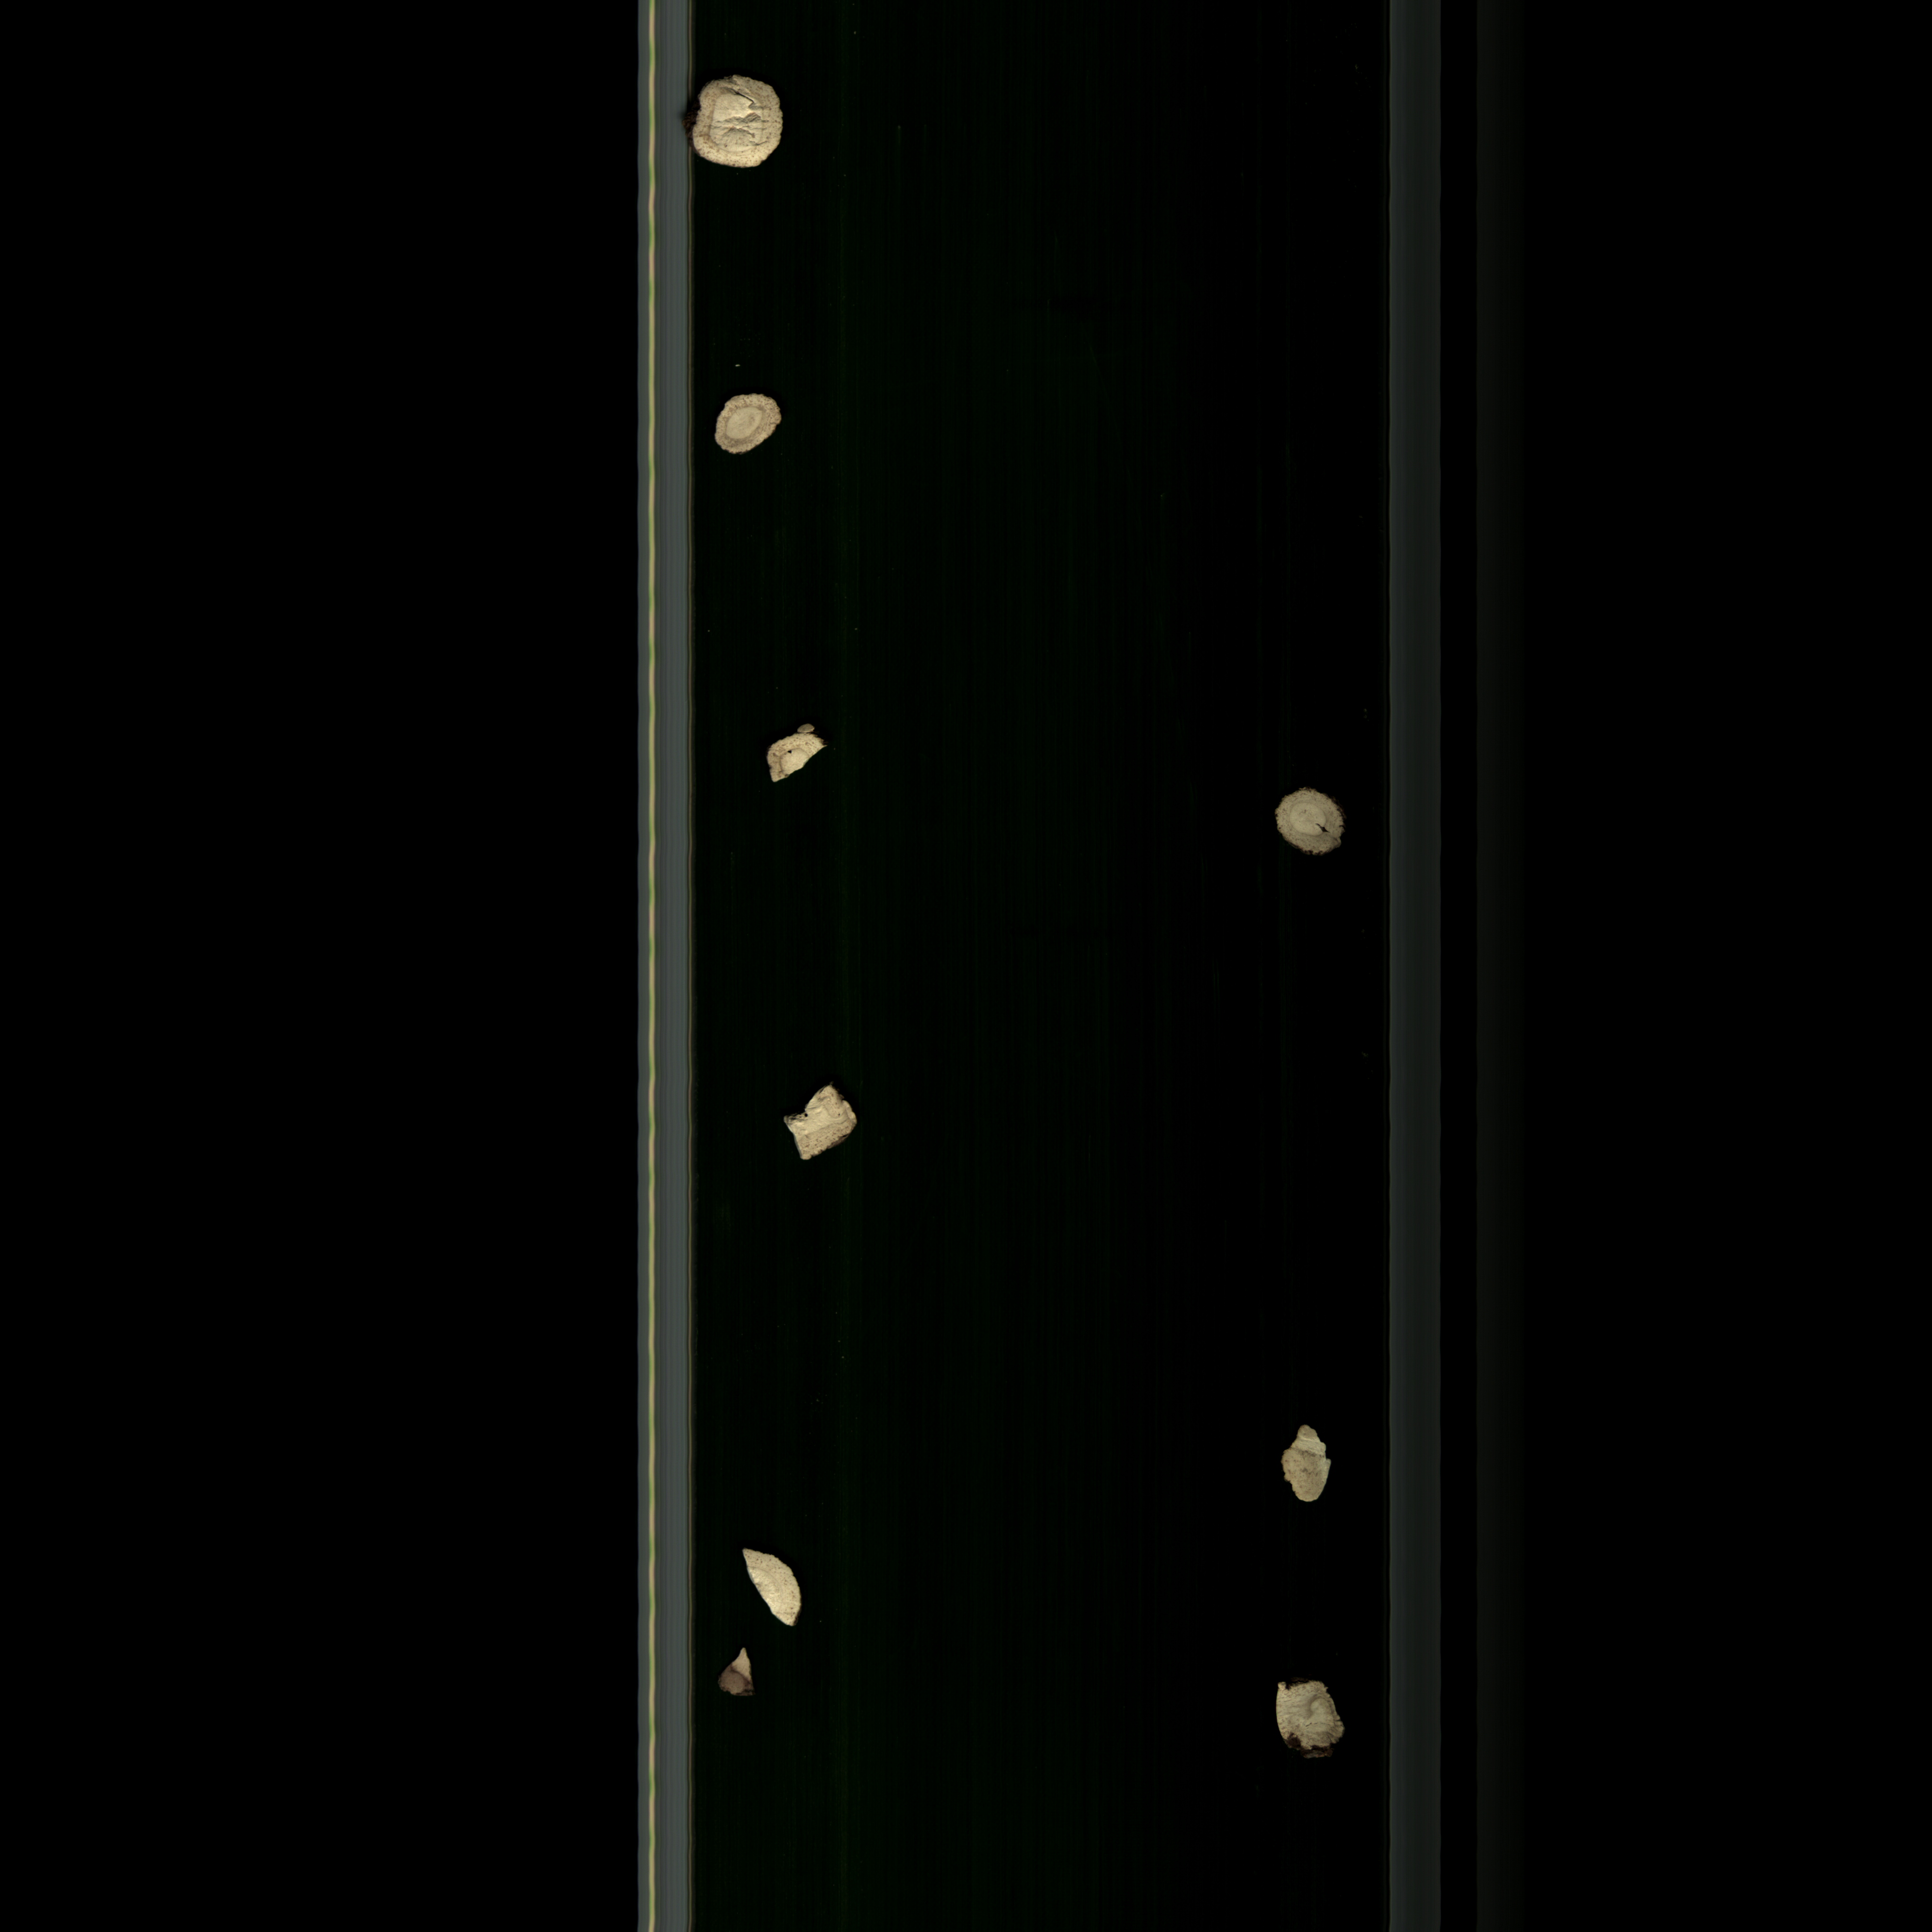debris: (729, 1539, 823, 1635), (1269, 1672, 1361, 1769), (773, 1083, 865, 1162), (755, 718, 844, 794)
dreg: (1274, 1415, 1345, 1527)
hole: (1265, 784, 1353, 872)
moldy: (694, 65, 800, 186), (718, 1640, 780, 1709)
